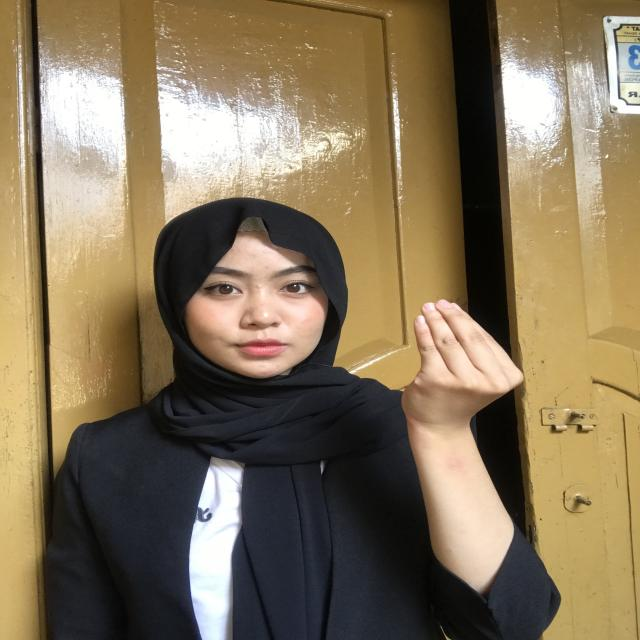kapan: (353, 286, 541, 446)
